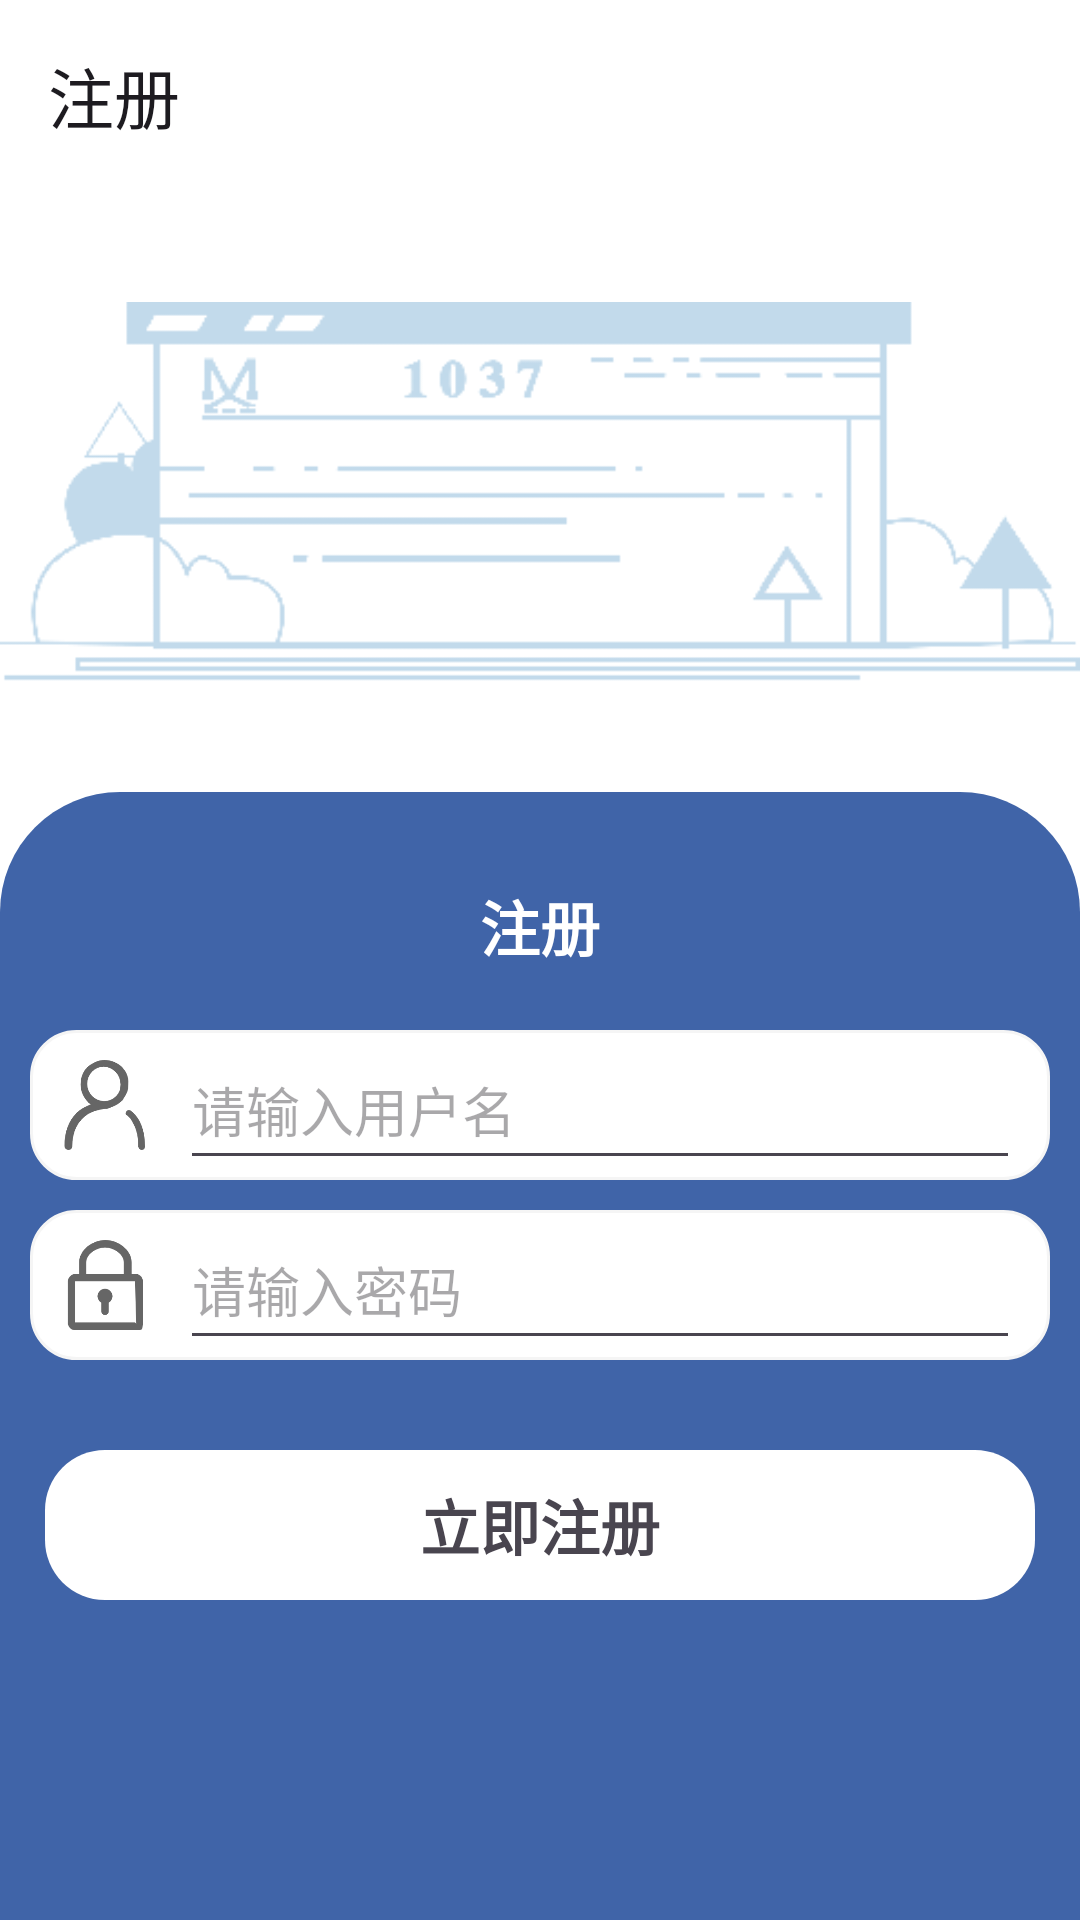

Where icons sit on this 1080×1920 app screen, as (x1, y1, x2, y2):
password: (68, 1240, 143, 1330)
user: (64, 1060, 145, 1150)
